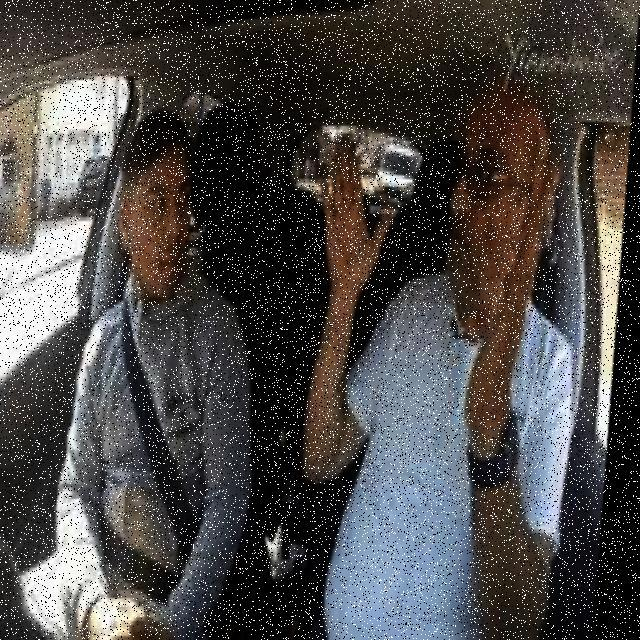noSeatbelt: (344, 266, 554, 640)
seatbelt: (89, 285, 245, 589)
